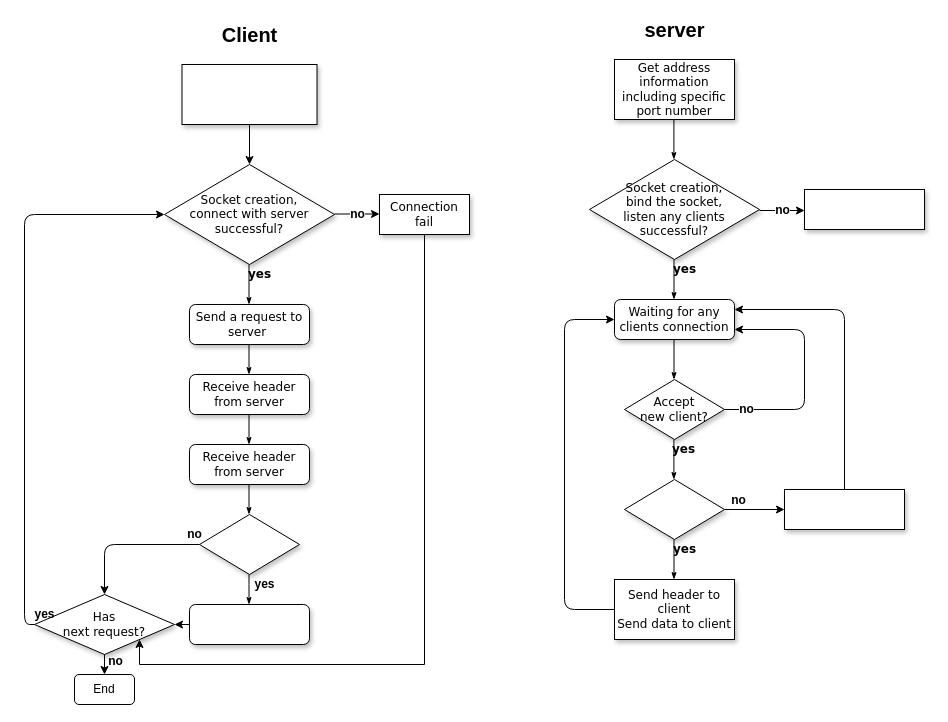
Some shapes in this 948 by 722 pixel diagram are drawn without their labels. The centre of each missing label's shape, as x and y in pixels:
"END (Connection fail)" goes at pixel 865 210.
"Get address information including server host name and port number" goes at pixel 250 96.
"Header status 'OK'?" goes at pixel 250 546.
"Receive data from server and write file" goes at pixel 250 626.
"Receive well formed header?" goes at pixel 675 510.
"Send header to client with 'INVALID' status" goes at pixel 845 510.
